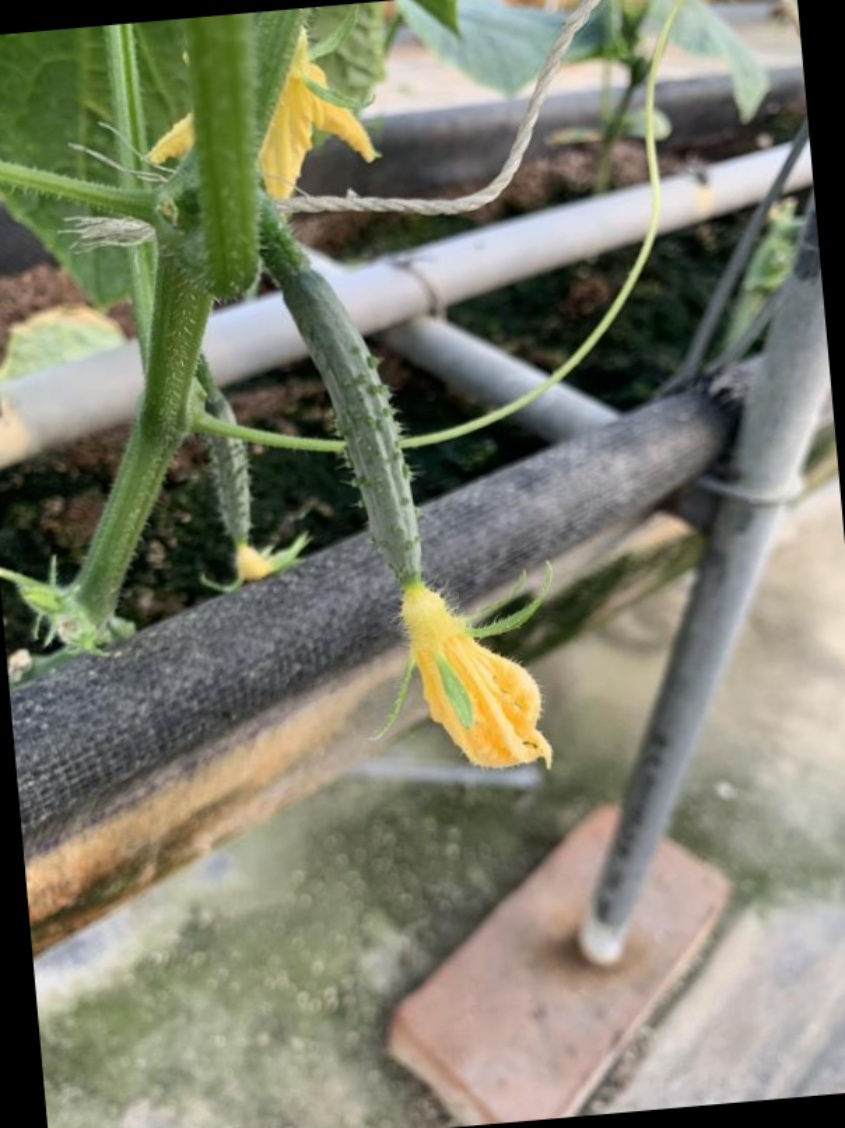bear: (270, 266, 535, 745)
